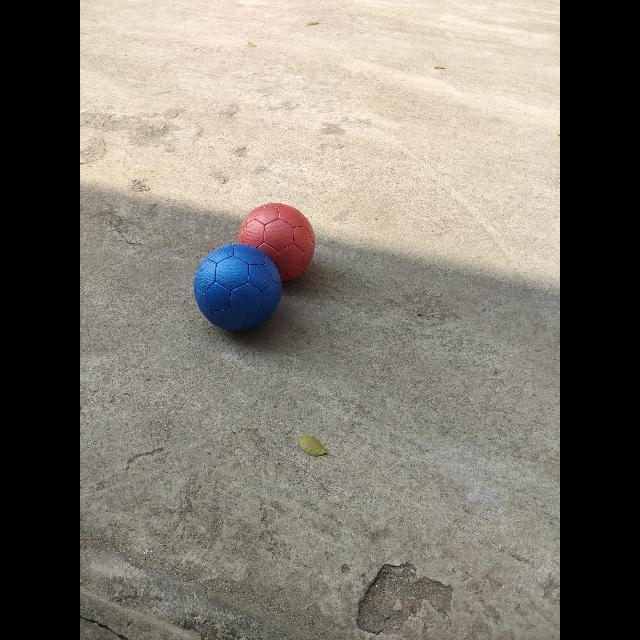B: (194, 244, 281, 331)
R: (238, 202, 315, 281)
